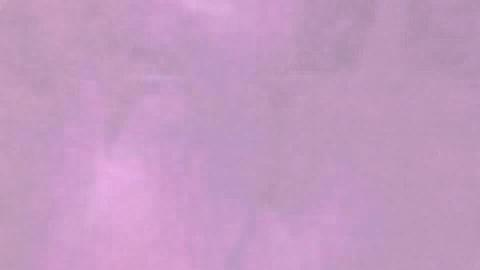tomato: (65, 119, 253, 268)
